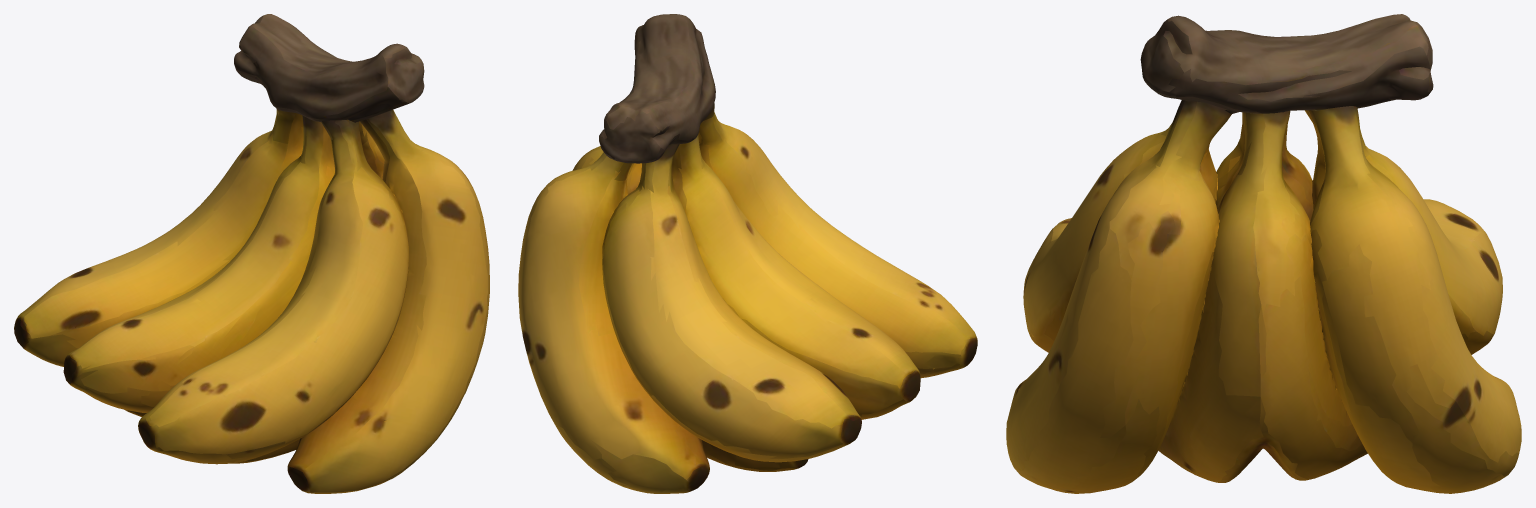
File: plantain.glb
The picture shows the model from 3 angles, left to right: view 1: azimuth 30°, elevation 25°; view 2: azimuth 150°, elevation 25°; view 3: azimuth 270°, elevation 25°; orthographic projection. The views are drawn at different scales.
Parts seen in each view (by area): view 1: geometry_0; view 2: geometry_0; view 3: geometry_0.
Boxes of the visible parts, box(x1,y1,x2,y2) form: geometry_0: box(14, 14, 489, 493); geometry_0: box(518, 14, 977, 493); geometry_0: box(1006, 14, 1521, 493).
Size of the model in its own units: 0.22 by 0.22 by 0.2024.
Materials: 1 (1 with a texture image).
